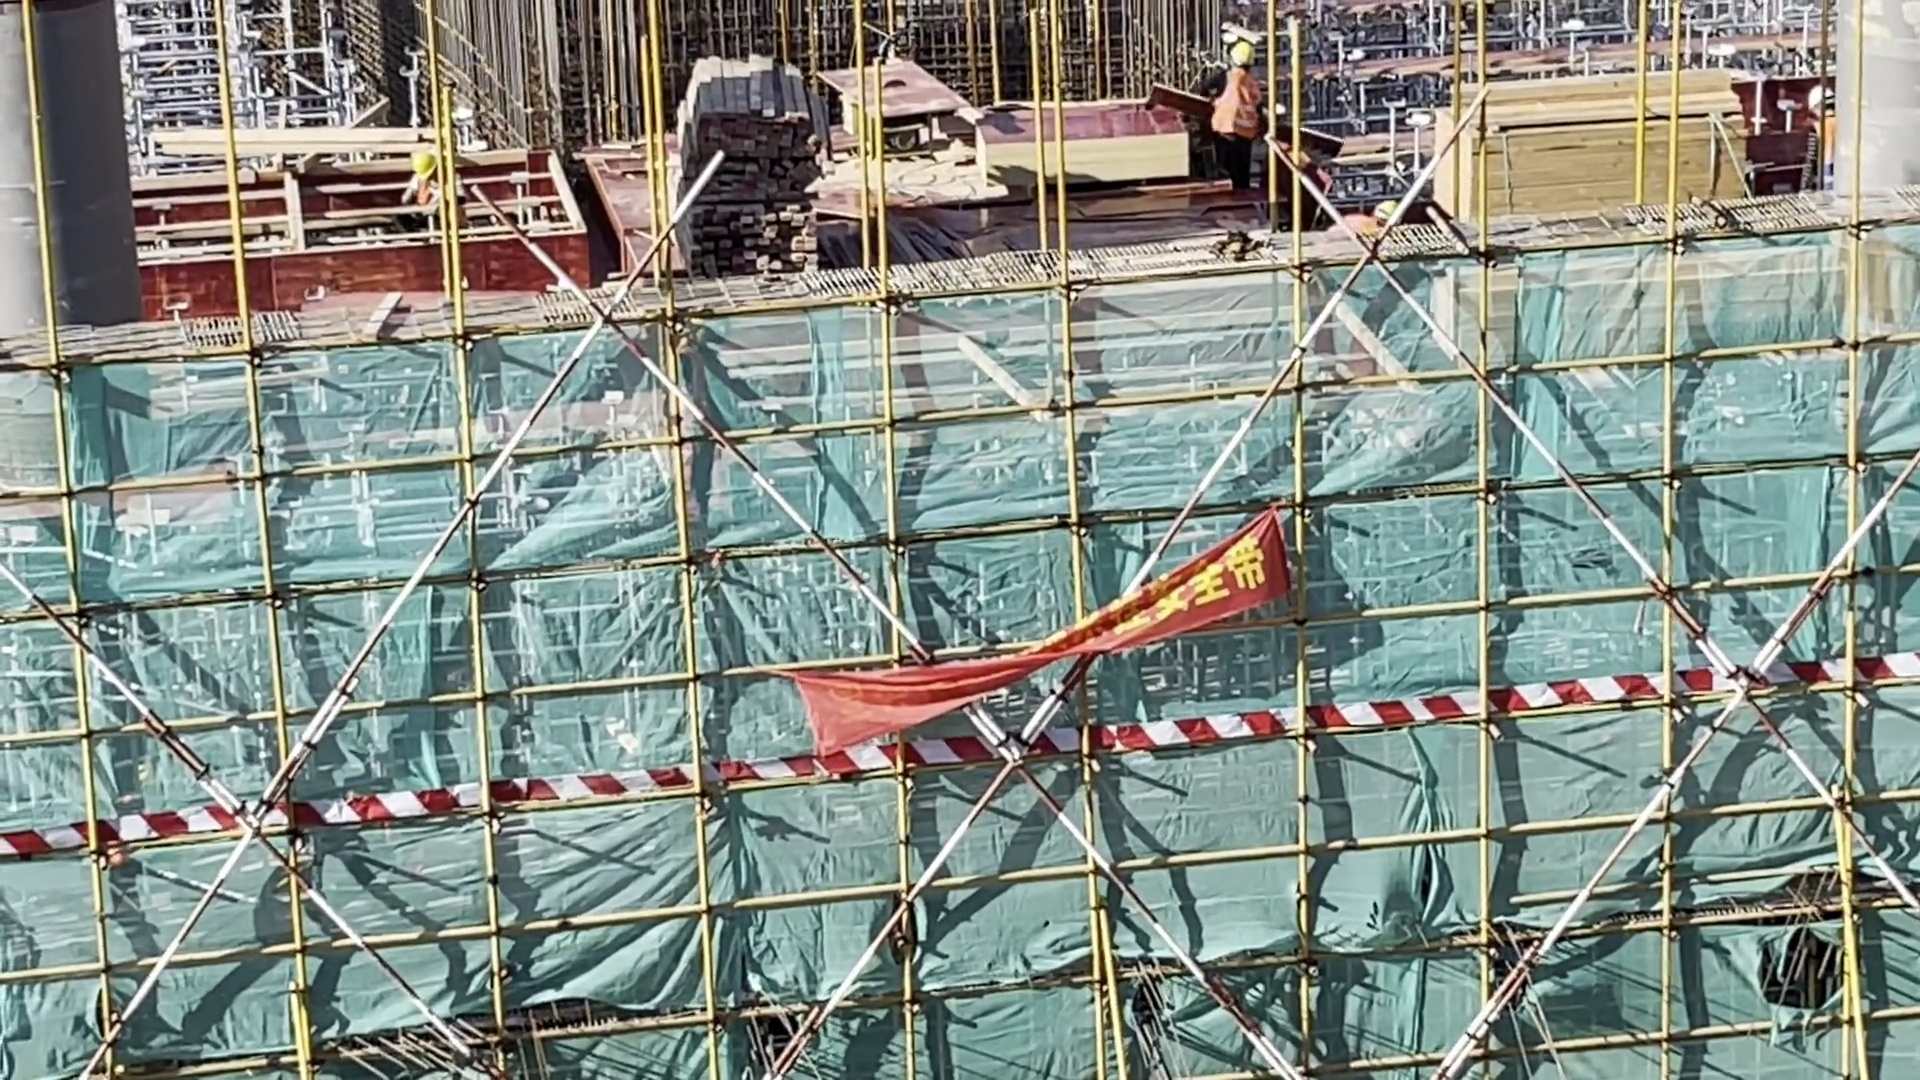helmet: (403, 141, 441, 189), (1801, 80, 1844, 115), (1222, 41, 1260, 75)
person: (1204, 37, 1280, 215), (1796, 78, 1837, 200), (396, 139, 444, 217), (1328, 197, 1412, 238)
slogan: (772, 477, 1299, 808)
vest: (1206, 64, 1271, 143), (1810, 109, 1837, 193)
wood: (1425, 61, 1763, 260), (667, 24, 843, 290)
